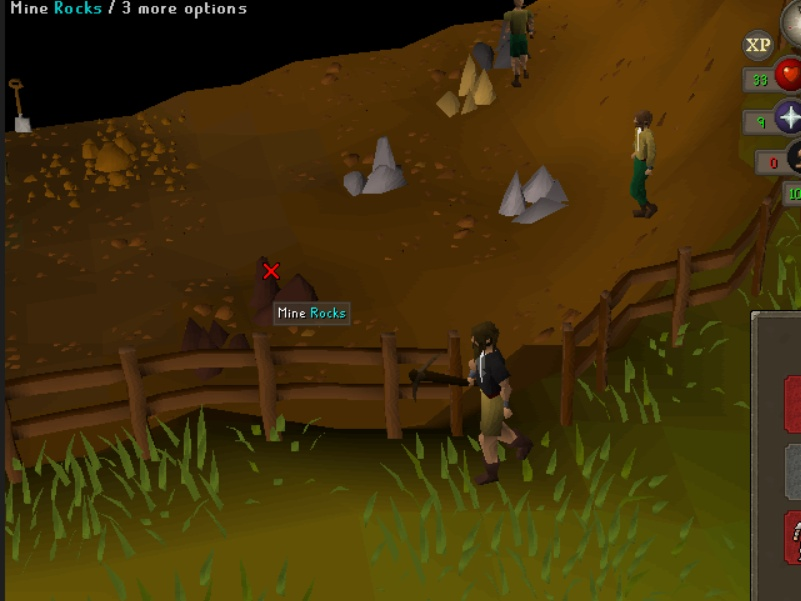clay: (428, 52, 508, 118)
iron: (247, 250, 340, 327), (177, 312, 260, 385)
tin: (338, 131, 418, 197), (496, 161, 576, 227)
